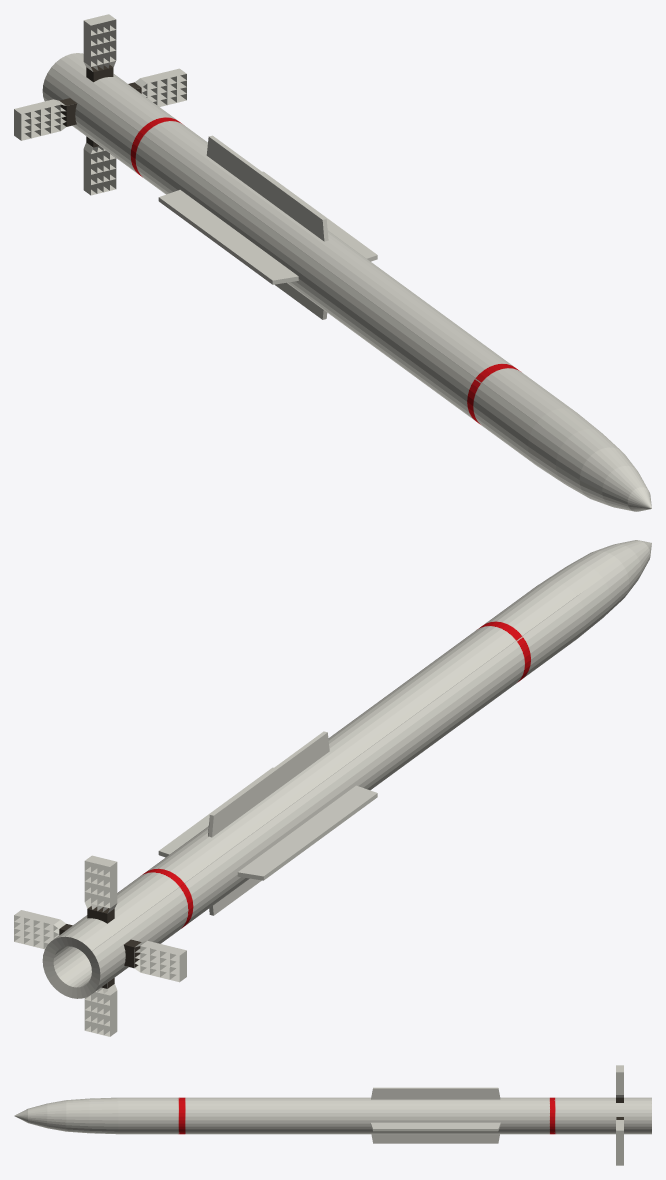
Rendered from missile1.obj.
3 views of the same model, one above another, from view 1: azimuth 30°, elevation 25°; view 2: azimuth 150°, elevation 25°; view 3: azimuth 270°, elevation 25° (orthographic). The views are drawn at different scales.
Visible parts, largest first — view 1: Bake; view 2: Bake; view 3: Bake.
Boxes of the visible parts, x1,y1,x2,y2 form: Bake: (14,14,651,511); Bake: (14,540,651,1036); Bake: (14,1065,651,1165).
Bounding box in the file's own units: 1.22 × 1.19 × 7.37.
1 material, 1 textured.
